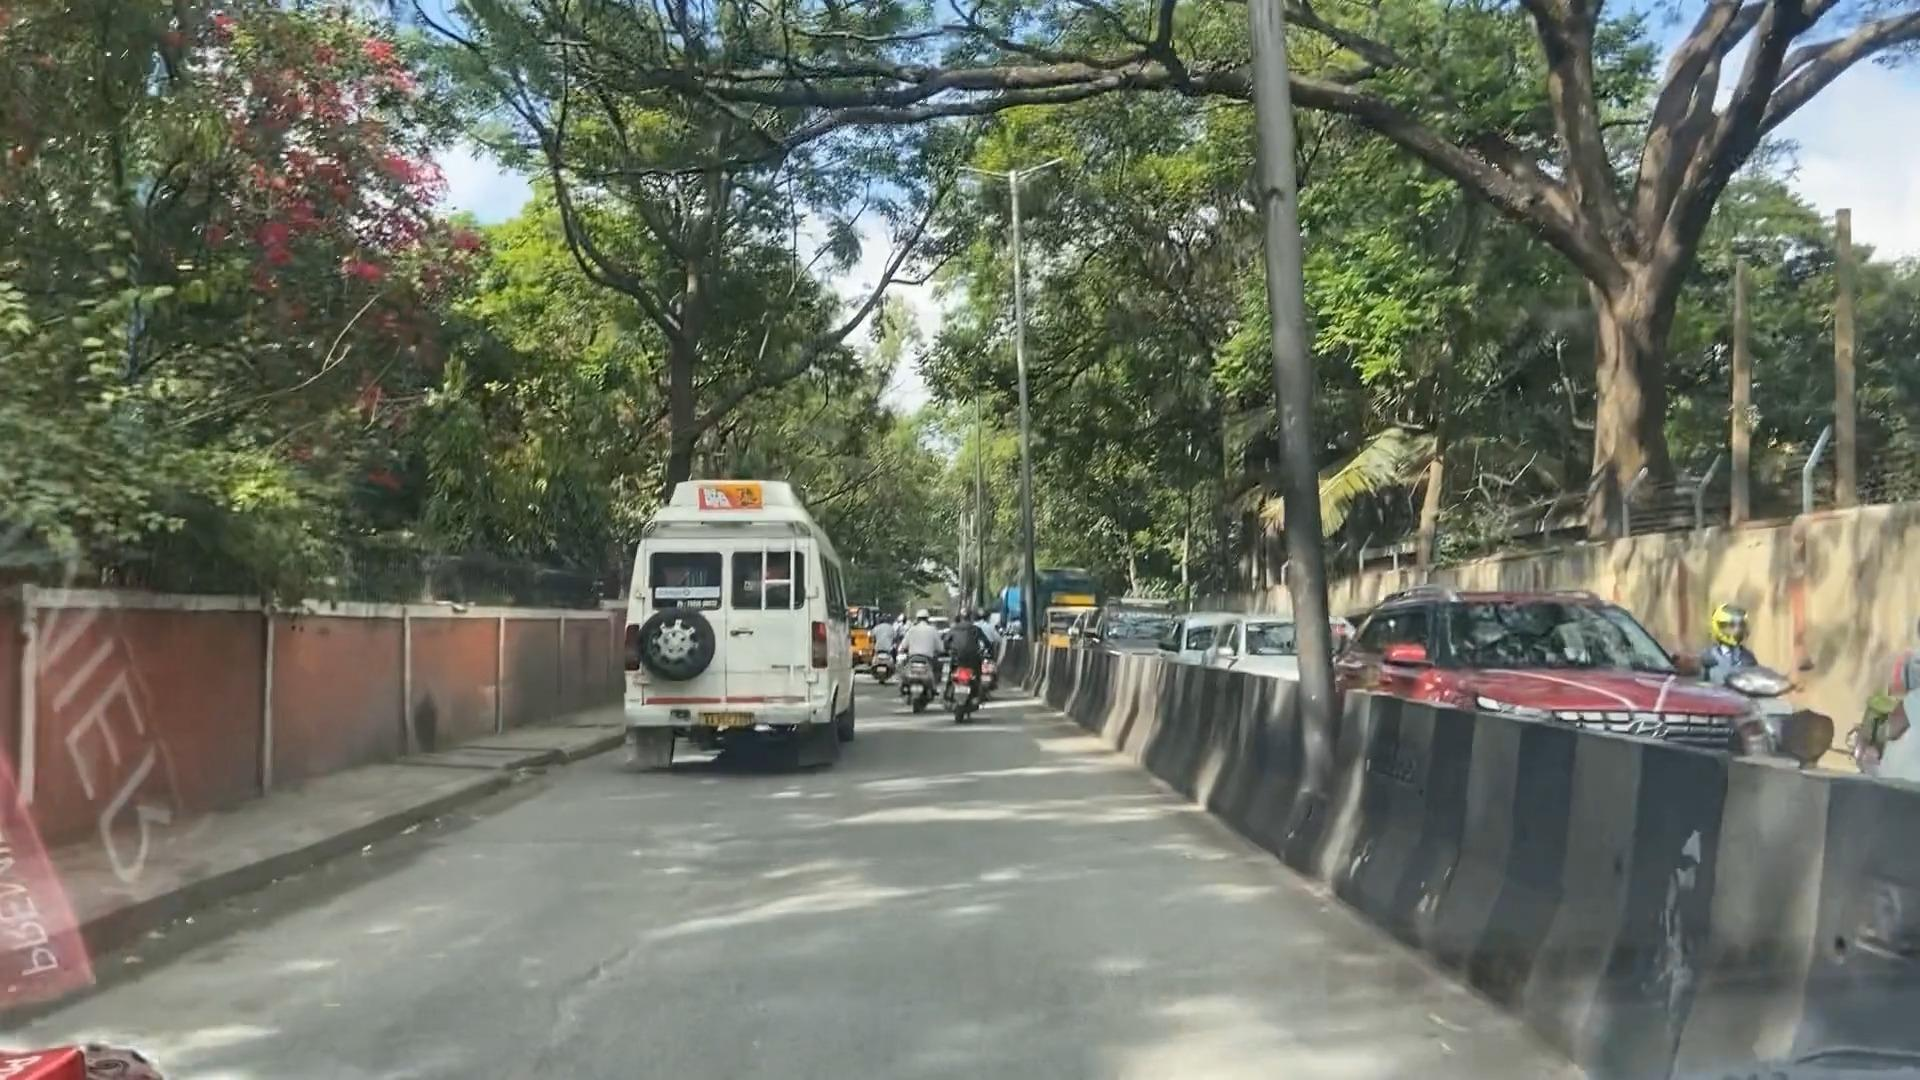HMV: (624, 480, 843, 770)
LMV: (927, 589, 1004, 720)
